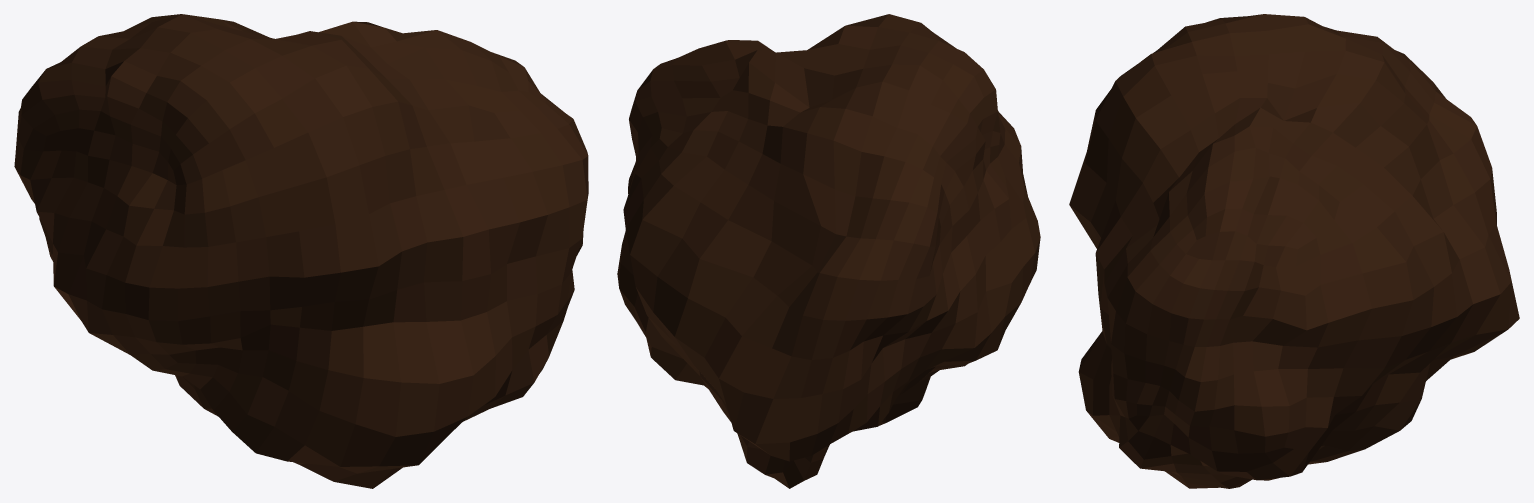
Rendered from Asteroid4.fbx.
3 views of the same model, side by side, from view 1: azimuth 30°, elevation 25°; view 2: azimuth 150°, elevation 25°; view 3: azimuth 270°, elevation 25° (orthographic). The views are drawn at different scales.
Visible parts, largest first — view 1: Asteroid4; view 2: Asteroid4; view 3: Asteroid4.
Part boxes in pixels (left/top/right/bottom): Asteroid4: left=14, top=14, right=588, bottom=488; Asteroid4: left=617, top=14, right=1040, bottom=488; Asteroid4: left=1069, top=14, right=1519, bottom=488.
Size of the model in its own units: 2156 by 2073 by 2050.
